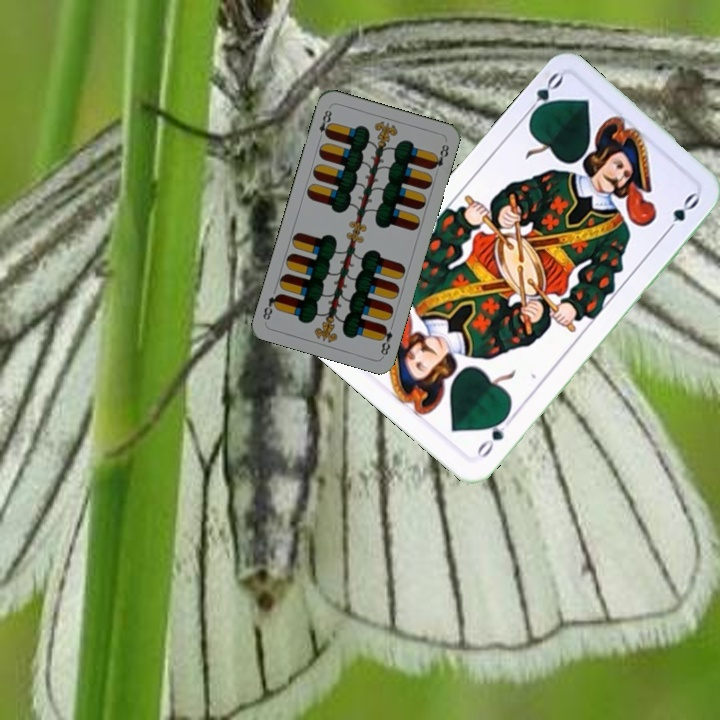E8: (314, 104, 335, 143), (376, 321, 395, 358)
GO: (520, 69, 566, 122), (473, 410, 511, 461)
